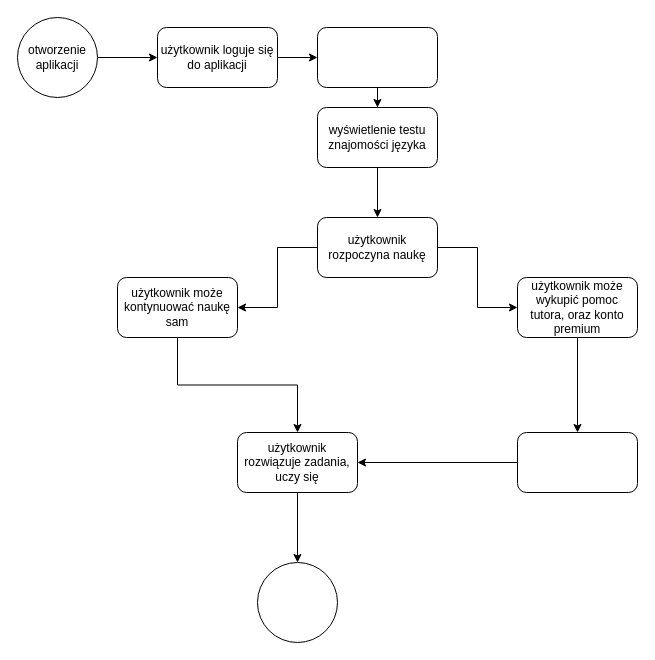
The diagram is 655 pixels wide and 660 high, and some of its shapes have lost their labels. Each missing label, with the centre of its shape:
tutor komunikuje się z uczniem w ustalone dni: point (577, 462)
użytkownik wybiera język, do nauki, określa swój poziom: point (377, 57)
wyjście z aplikacji: point (297, 602)
